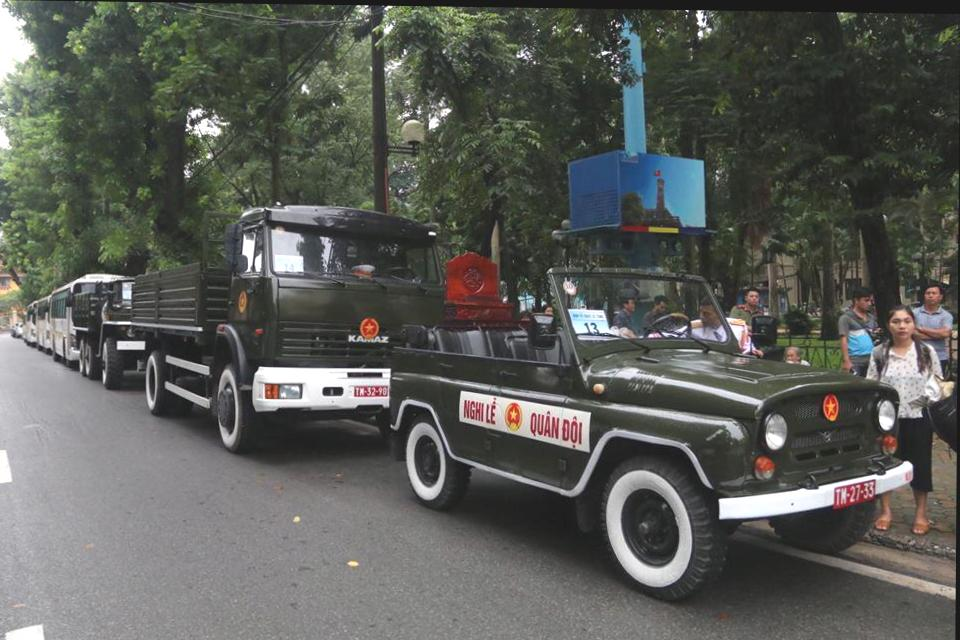License_Plate: (828, 475, 884, 511), (353, 378, 389, 405)
